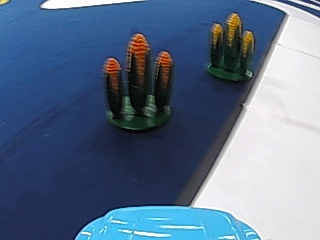corn: (101, 37, 174, 133), (205, 13, 255, 81)
